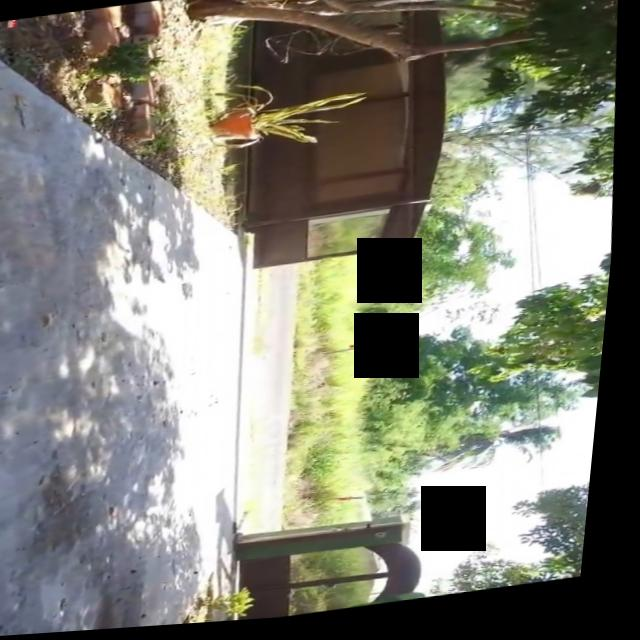Building: (223, 6, 456, 278), (233, 515, 439, 625)
Tree: (178, 0, 629, 176), (470, 247, 619, 460)
